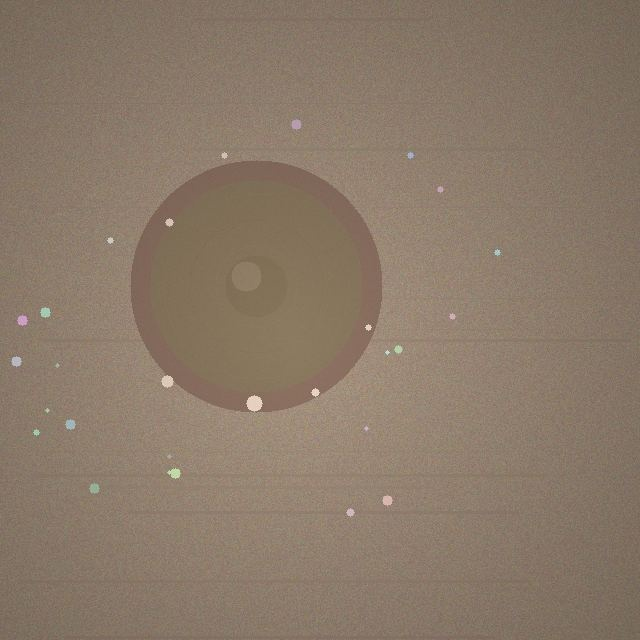overburn: (130, 160, 382, 412)
